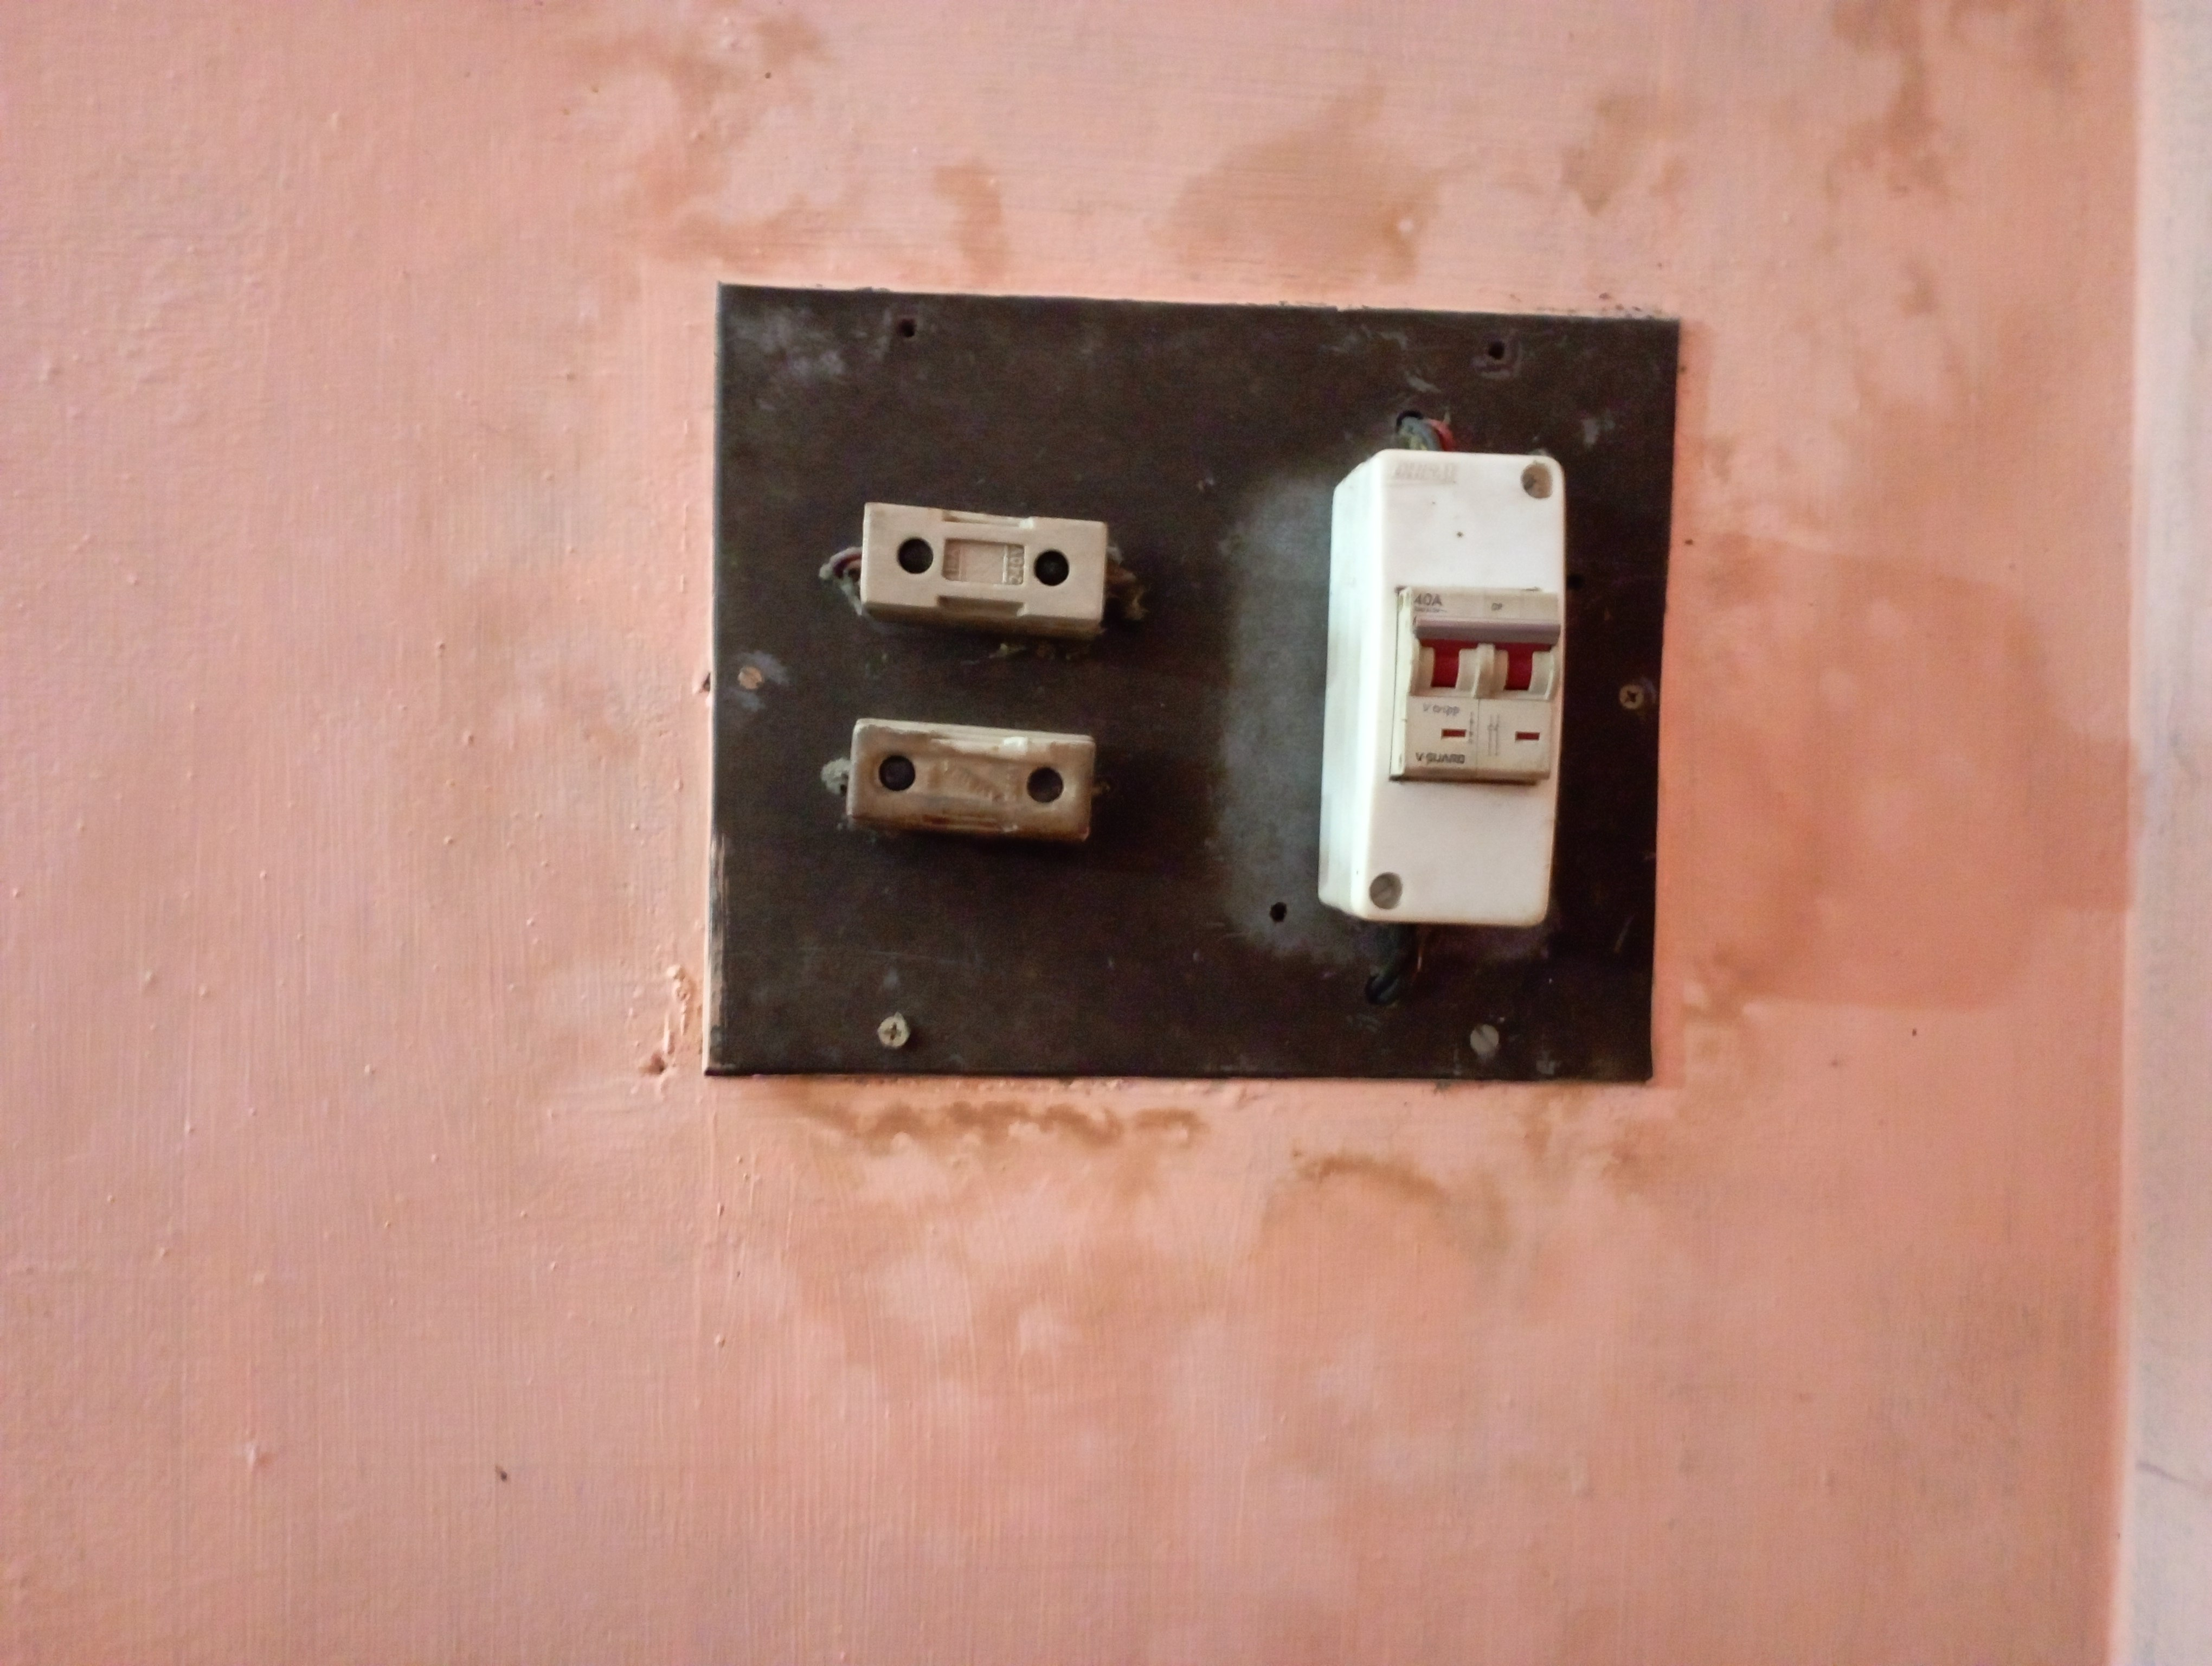ciruit_breaker: (1311, 452, 1581, 952)
fuse: (829, 714, 1128, 870), (838, 494, 1144, 632)
